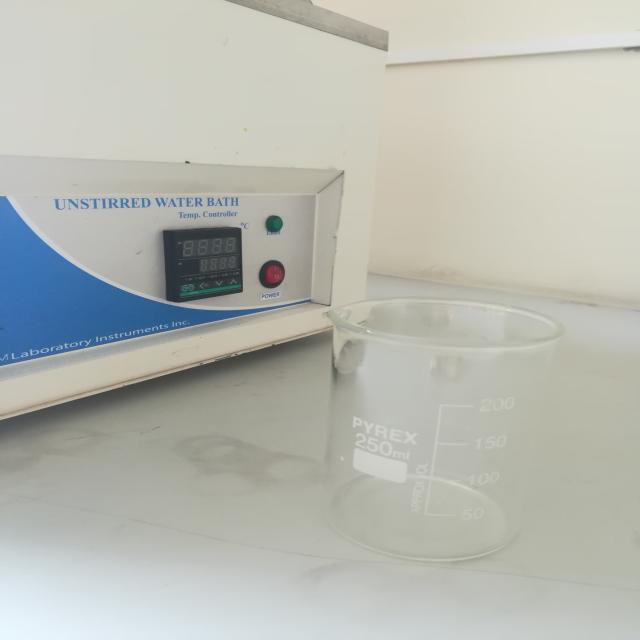Beaker: (293, 253, 578, 590)
